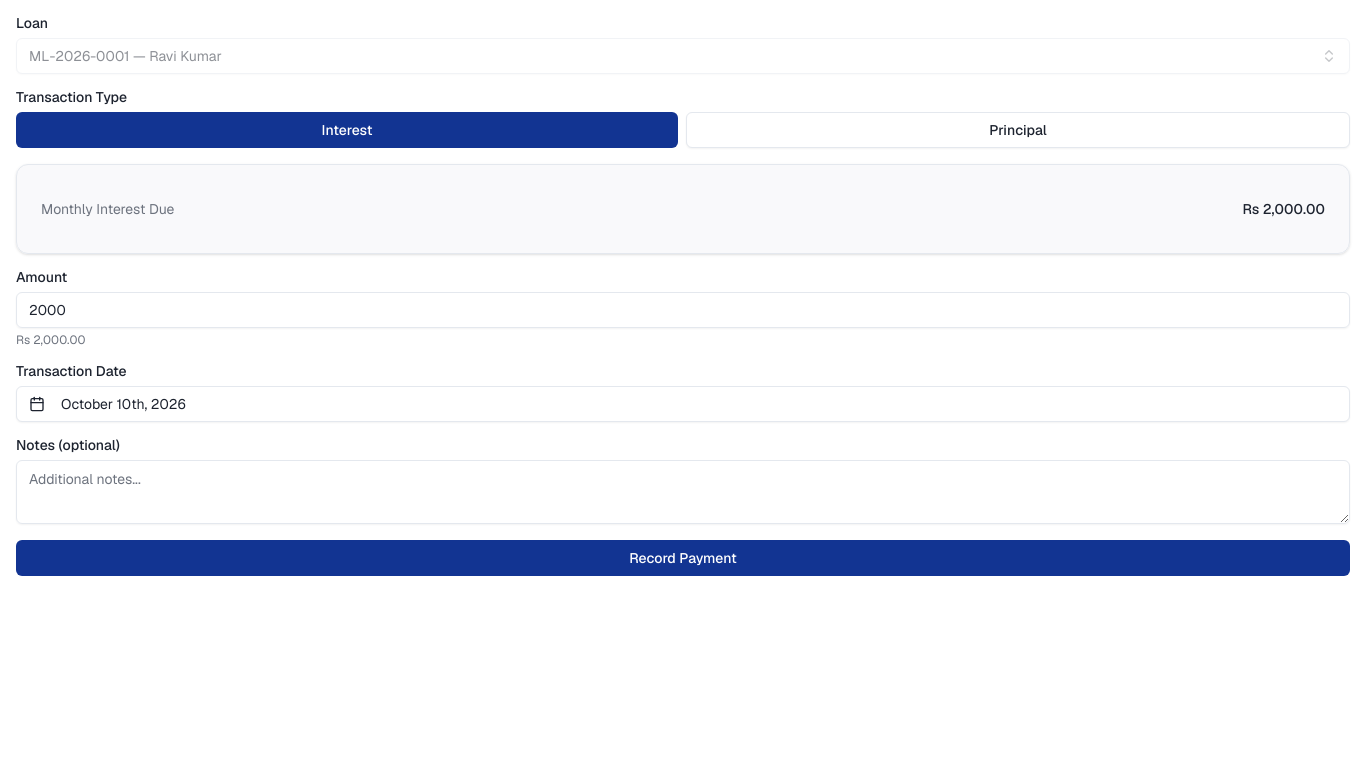
Test: RecordPaymentForm — recording › cancelling the confirmation sends nothing
Expected: the field with placeholder "Enter amount" holds "2000", [16,292,1350,328]
Click the button "Principal" at (1018, 130), box [686,112,1350,148]
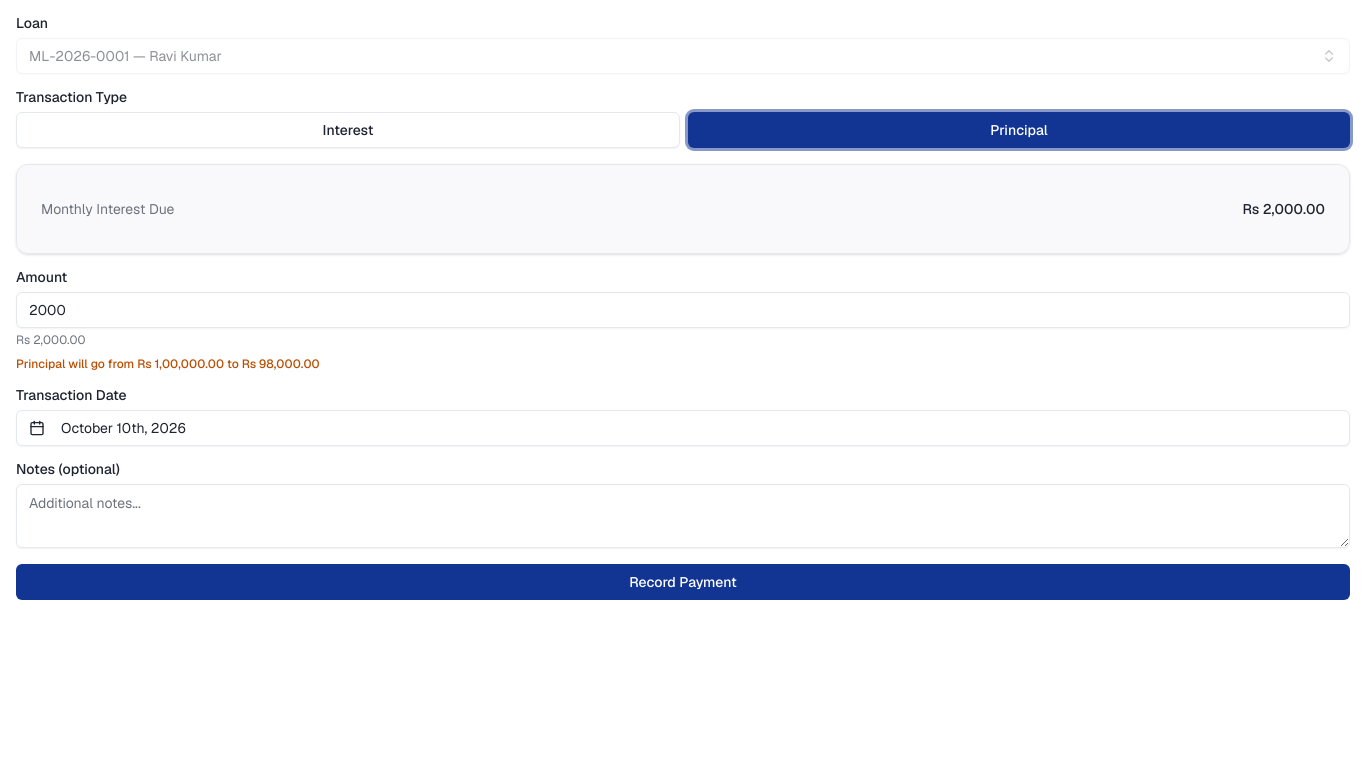
Click the button "Record Payment" at (683, 582), box [16,564,1350,600]
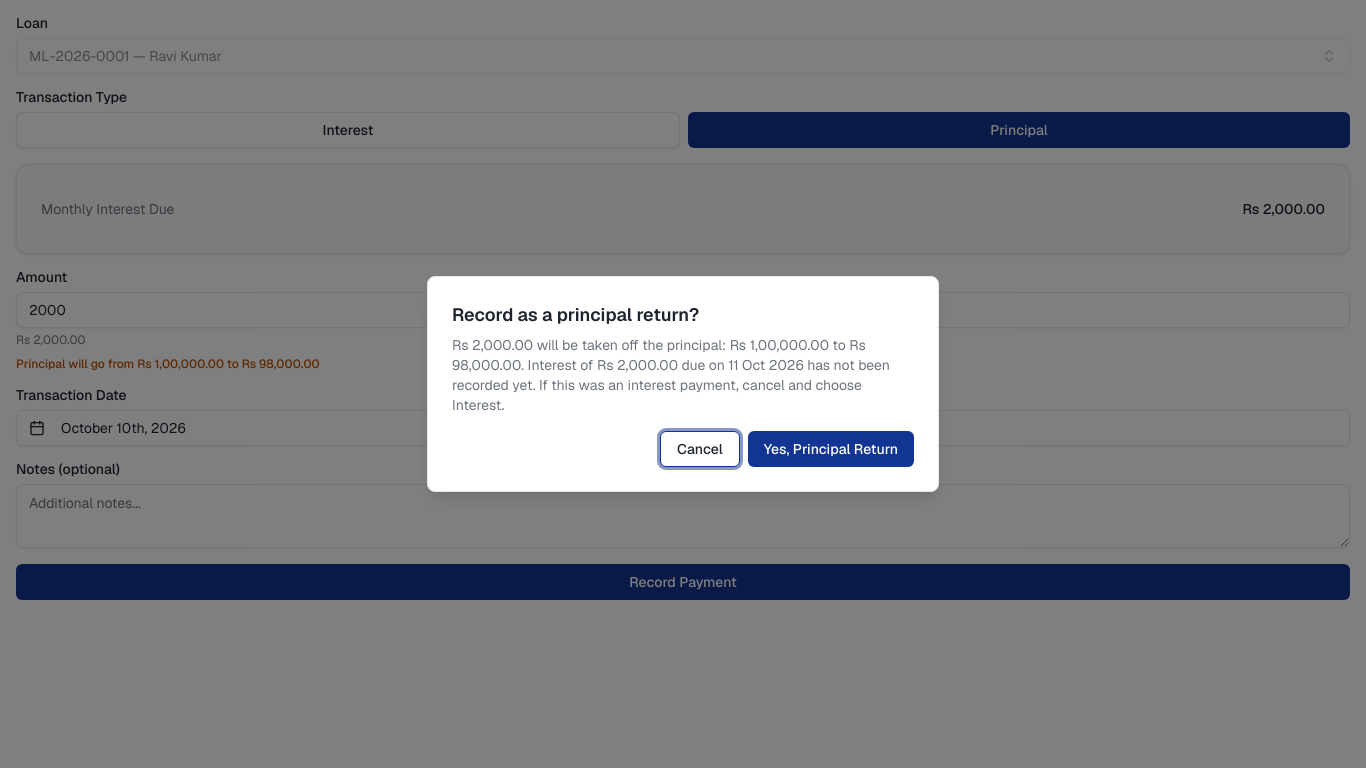
Click the button "Cancel" at (700, 449), box [660,431,740,467]
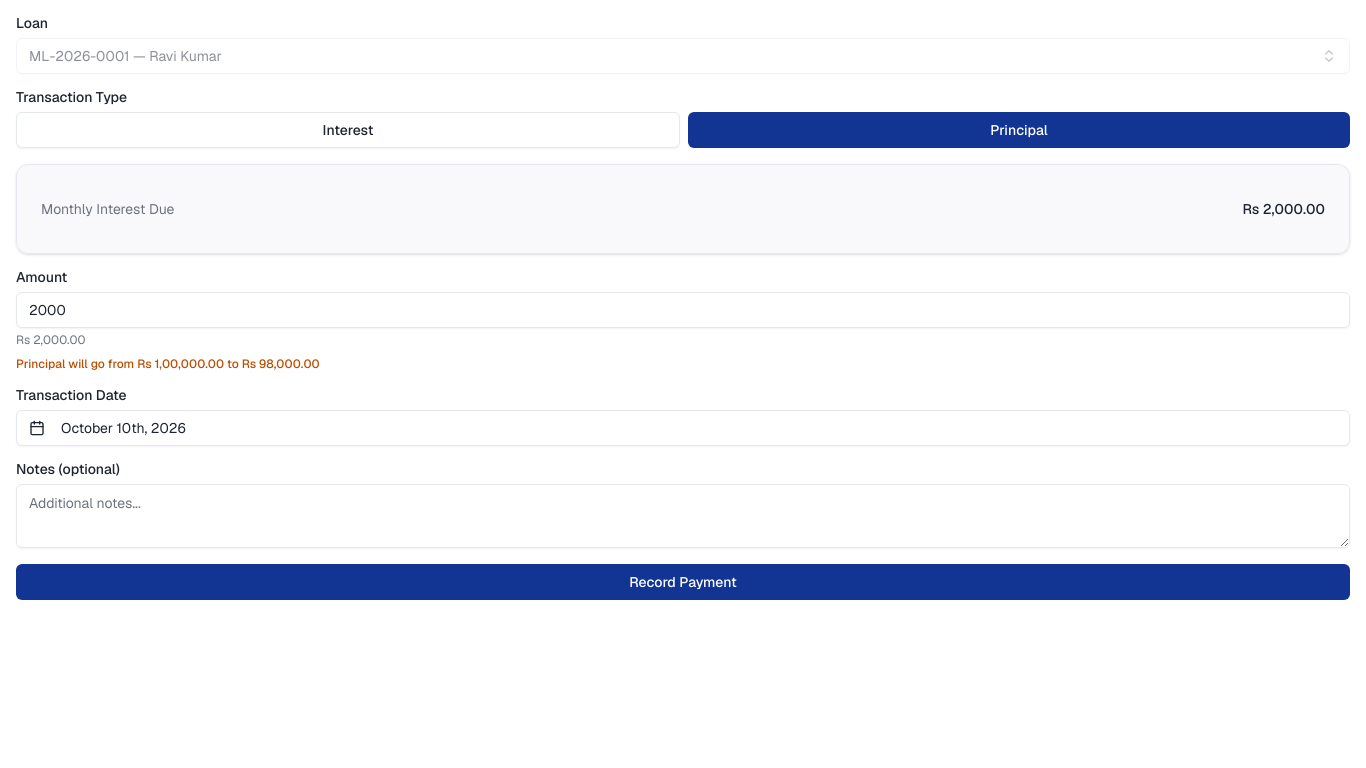
Expected: the dialog is gone
